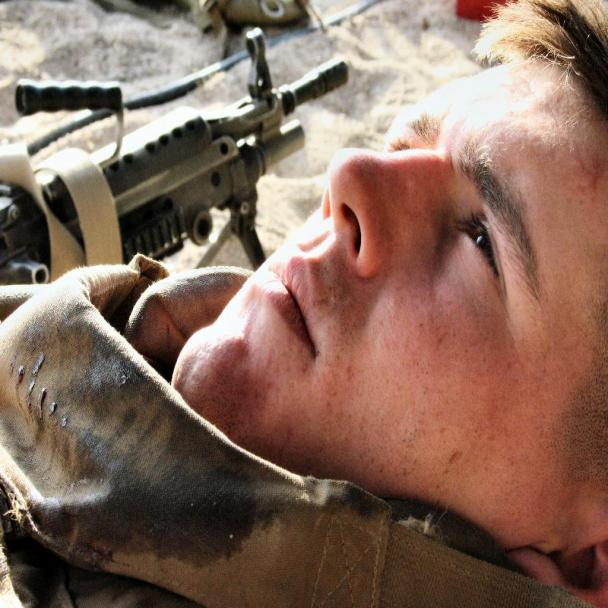Gun: (0, 22, 361, 276)
